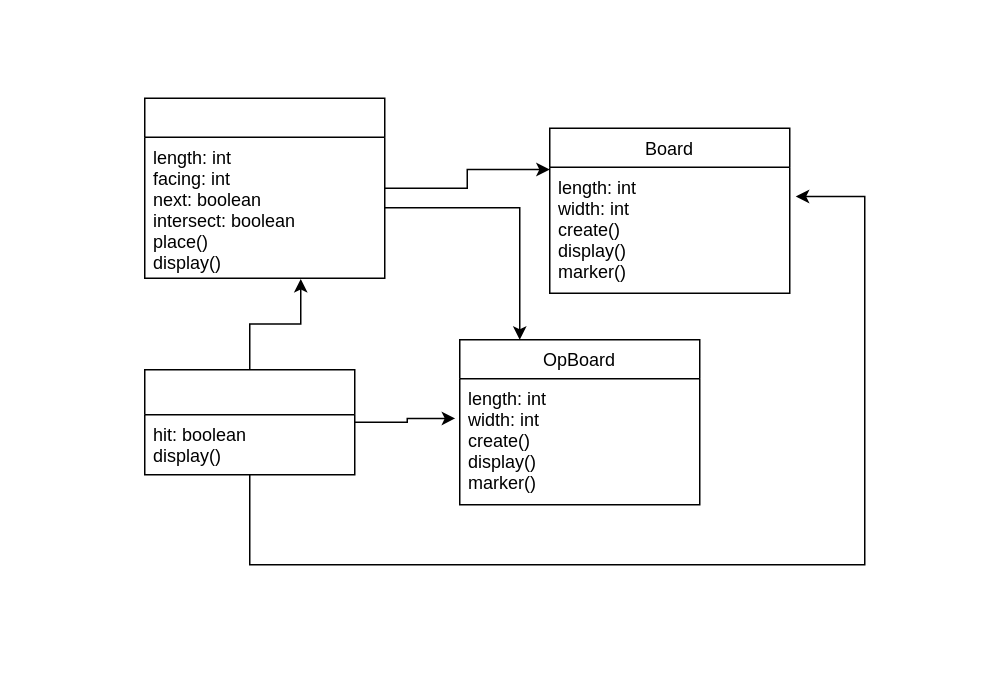
The diagram is 995 pixels wide and 696 high, and some of its shapes have lost their labels. The box of each missing label's shape, as (x1, y1, x2, y2) in pixels:
Marker: (143, 368, 355, 475)
Ship: (143, 97, 385, 278)
